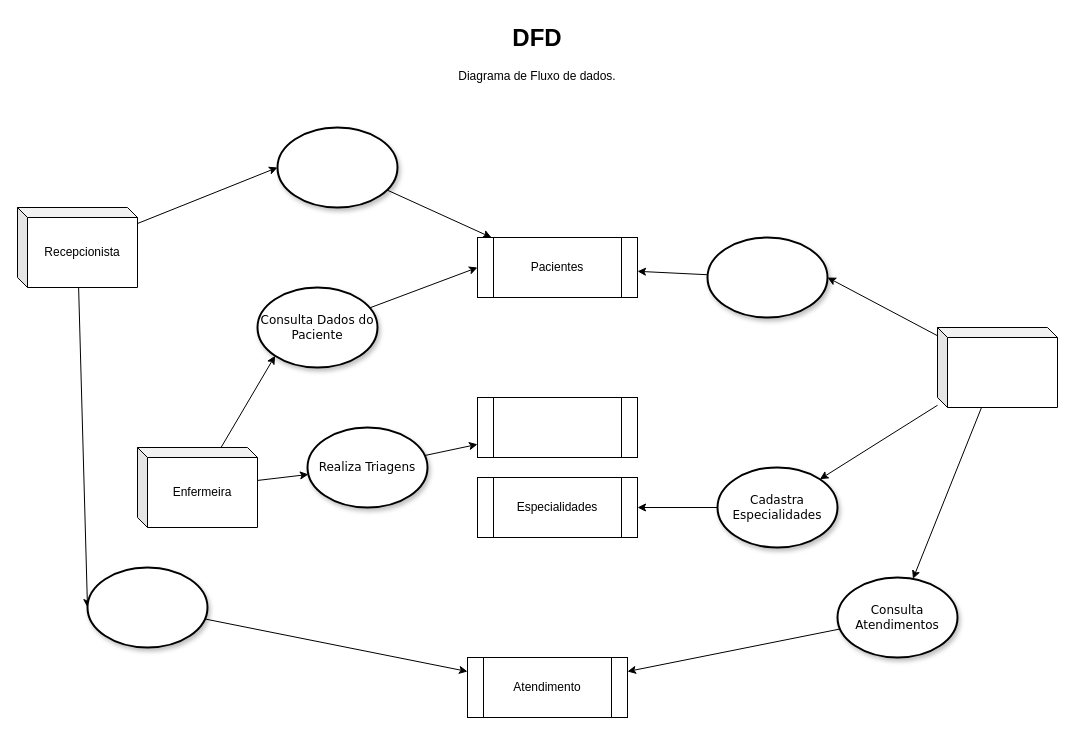
The diagram is 1075 pixels wide and 735 high, and some of its shapes have lost their labels. Here are the shapes that lost their labels. From the top down, the centre of each, then its label:
At (x=338, y=168): "Cadastra Pacientes".
At (x=768, y=278): "Consulta Pacientes".
At (x=997, y=367): "Médico".
At (x=557, y=427): "Triagens".
At (x=148, y=608): "Registra Atendimento".
